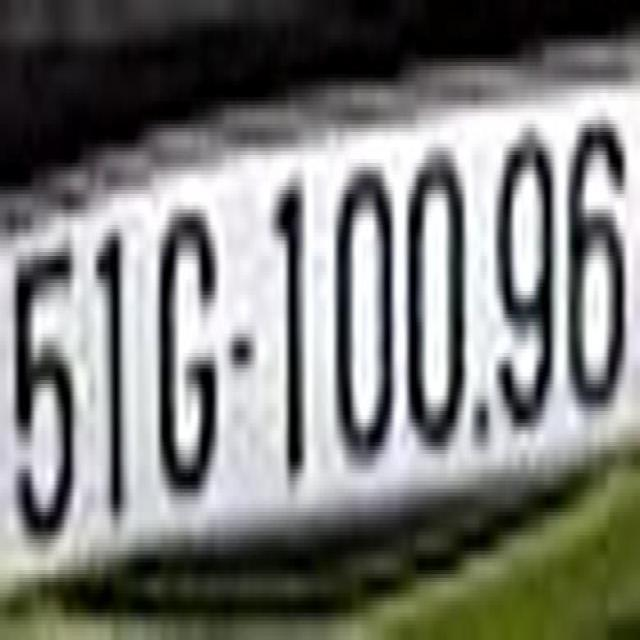0: (334, 163, 398, 450), (408, 136, 463, 423)
1: (276, 202, 308, 485), (101, 252, 132, 539)
5: (14, 225, 79, 528)
6: (571, 116, 631, 404)
9: (501, 124, 554, 407)
G: (159, 214, 222, 462)
